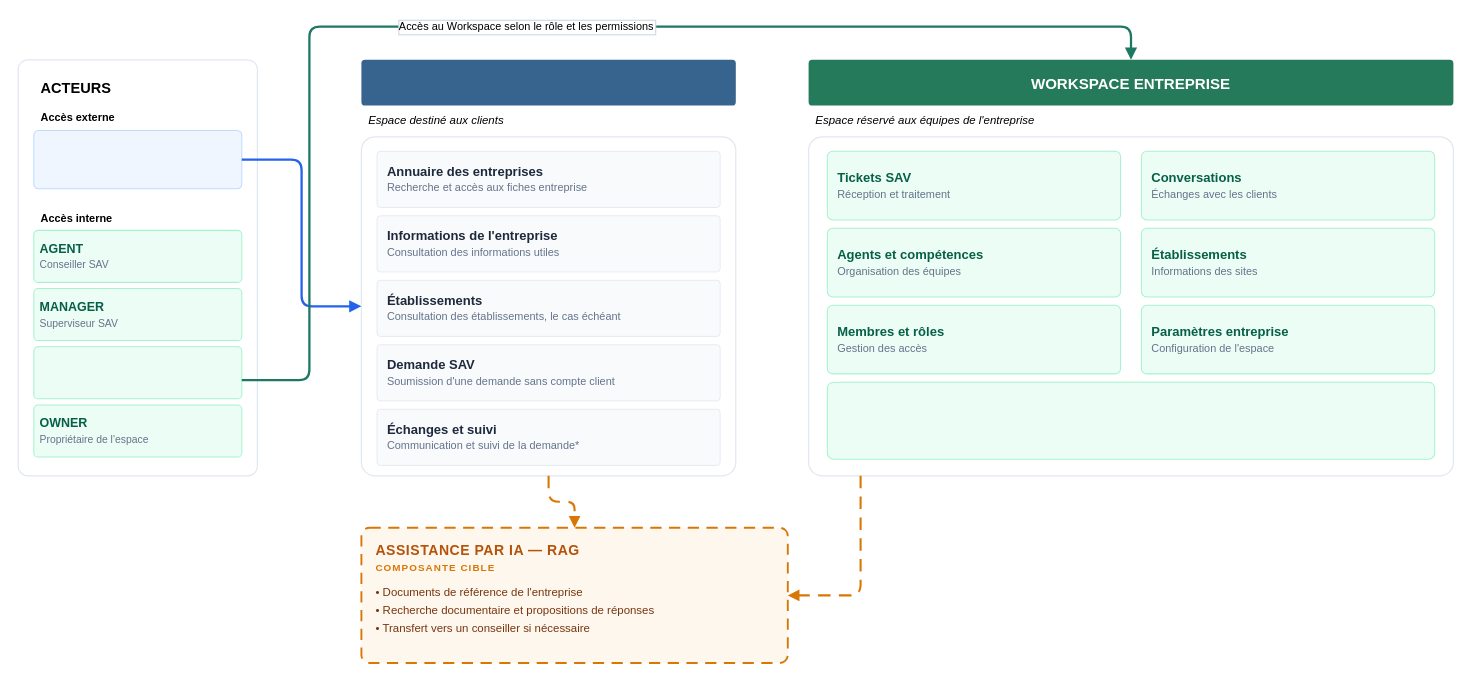
The diagram is 1473 pixels wide and 682 high, and some of its shapes have lost their labels. The shapes that lost their labels are listed below. From the top down, each one's centre as x and y in pixels, then its label:
At pixel 548 82: "PORTAIL PUBLIC".
At pixel 137 159: "CLIENT Utilisateur du portail public".
At pixel 137 372: "ADMIN Administrateur de l'entreprise".
At pixel 1130 420: "Abonnements Gestion de l'offre".
